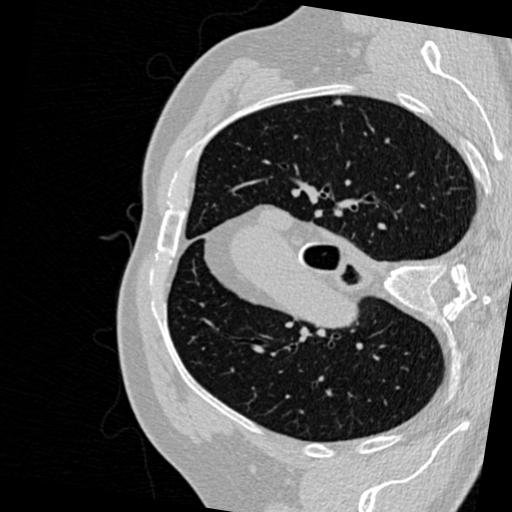nodule: (331, 93, 346, 108)
